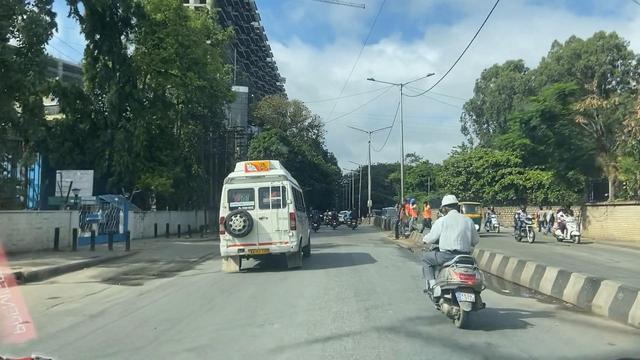HMV: (206, 166, 312, 267)
LMV: (413, 192, 484, 321)
RoadDamages: (45, 278, 130, 325)
